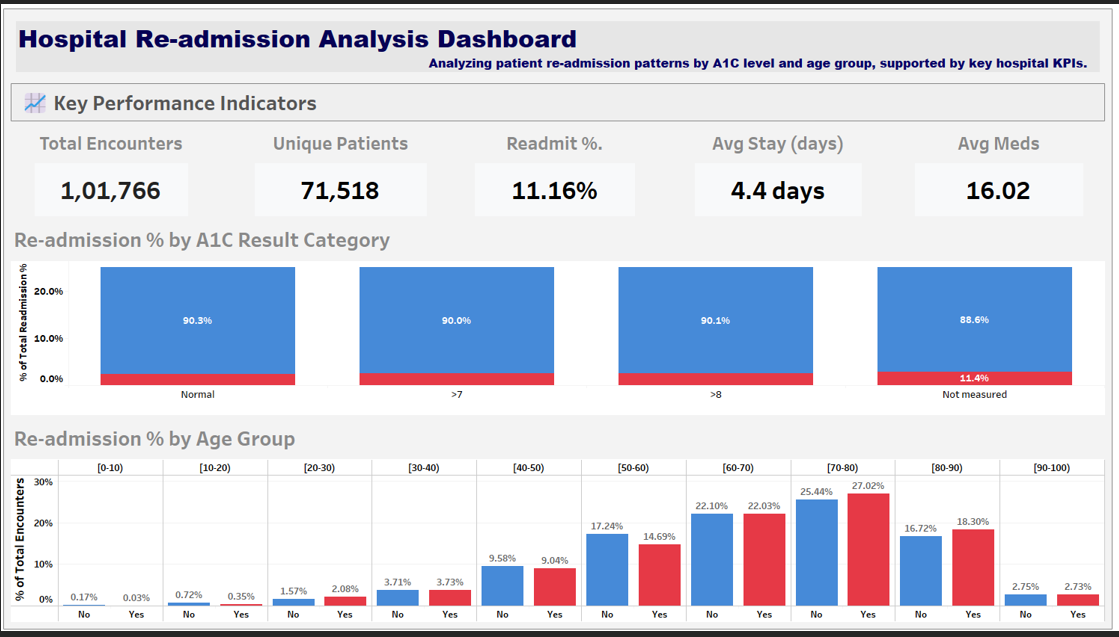

What the dashboard file says about the page in this screenshot:
{"tool":"tableau","page":{"name":"Dashboard 1","canvas":[1000,1000],"units":"permille","ordinal":0},"visuals":[{"type":"text","box":[10.7,18.8,978.7,105.8]},{"type":"text","box":[10.7,124.6,978.7,69]},{"type":"blank","box":[10.7,193.6,21.3,149.6]},{"type":"worksheet","title":"Total Encounters","mark":"Text","box":[32,193.6,174.4,149.6]},{"type":"blank","box":[206.4,193.6,21.3,149.6]},{"type":"worksheet","title":"Unique Patients","mark":"Automatic","box":[227.7,193.6,174.4,149.6]},{"type":"blank","box":[402.1,193.6,21.3,149.6]},{"type":"worksheet","title":"Readmit %.","mark":"Automatic","box":[423.4,193.6,174.4,149.6]},{"type":"blank","box":[597.9,193.6,21.3,149.6]},{"type":"worksheet","title":"Avg Stay (days)","mark":"Automatic","box":[619.1,193.6,174.4,149.6]},{"type":"blank","box":[793.6,193.6,21.3,149.6]},{"type":"worksheet","title":"Avg Meds","mark":"Automatic","box":[814.9,193.6,174.5,149.6]},{"type":"worksheet","title":"Re-admission % by A1C Result Category","mark":"Bar","cols":["A1C_Result"],"box":[10.7,343.2,978.7,312.2]},{"type":"worksheet","title":"Age vs Re-admission %","mark":"Bar","cols":["age","Readmitted_30Days"],"box":[10.7,655.4,978.7,325.8]}]}

Visuals, with their boxes on the dashboard's canvas, which has no fixed pixel size, in thousandths of its width and height (x1, y1, x2, y2). These are canvas units, not pixel positions in the 1119x637 screenshot, which may show the page scaled, cropped or inside an application window:
text: select_region(11, 19, 989, 125)
text: select_region(11, 125, 989, 194)
blank: select_region(11, 194, 32, 343)
"Total Encounters" worksheet (Text marks): select_region(32, 194, 206, 343)
blank: select_region(206, 194, 228, 343)
"Unique Patients" worksheet: select_region(228, 194, 402, 343)
blank: select_region(402, 194, 423, 343)
"Readmit %." worksheet: select_region(423, 194, 598, 343)
blank: select_region(598, 194, 619, 343)
"Avg Stay (days)" worksheet: select_region(619, 194, 794, 343)
blank: select_region(794, 194, 815, 343)
"Avg Meds" worksheet: select_region(815, 194, 989, 343)
"Re-admission % by A1C Result Category" worksheet (Bar marks): select_region(11, 343, 989, 655)
"Age vs Re-admission %" worksheet (Bar marks): select_region(11, 655, 989, 981)
